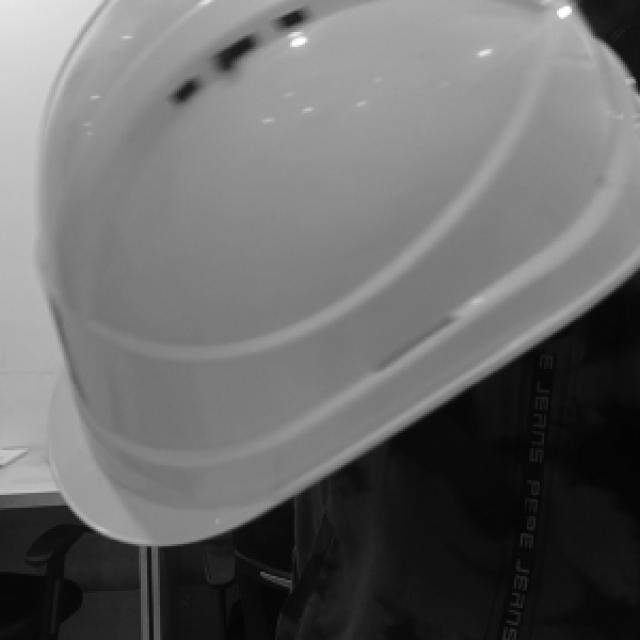safety_helmet: (34, 0, 640, 546)
